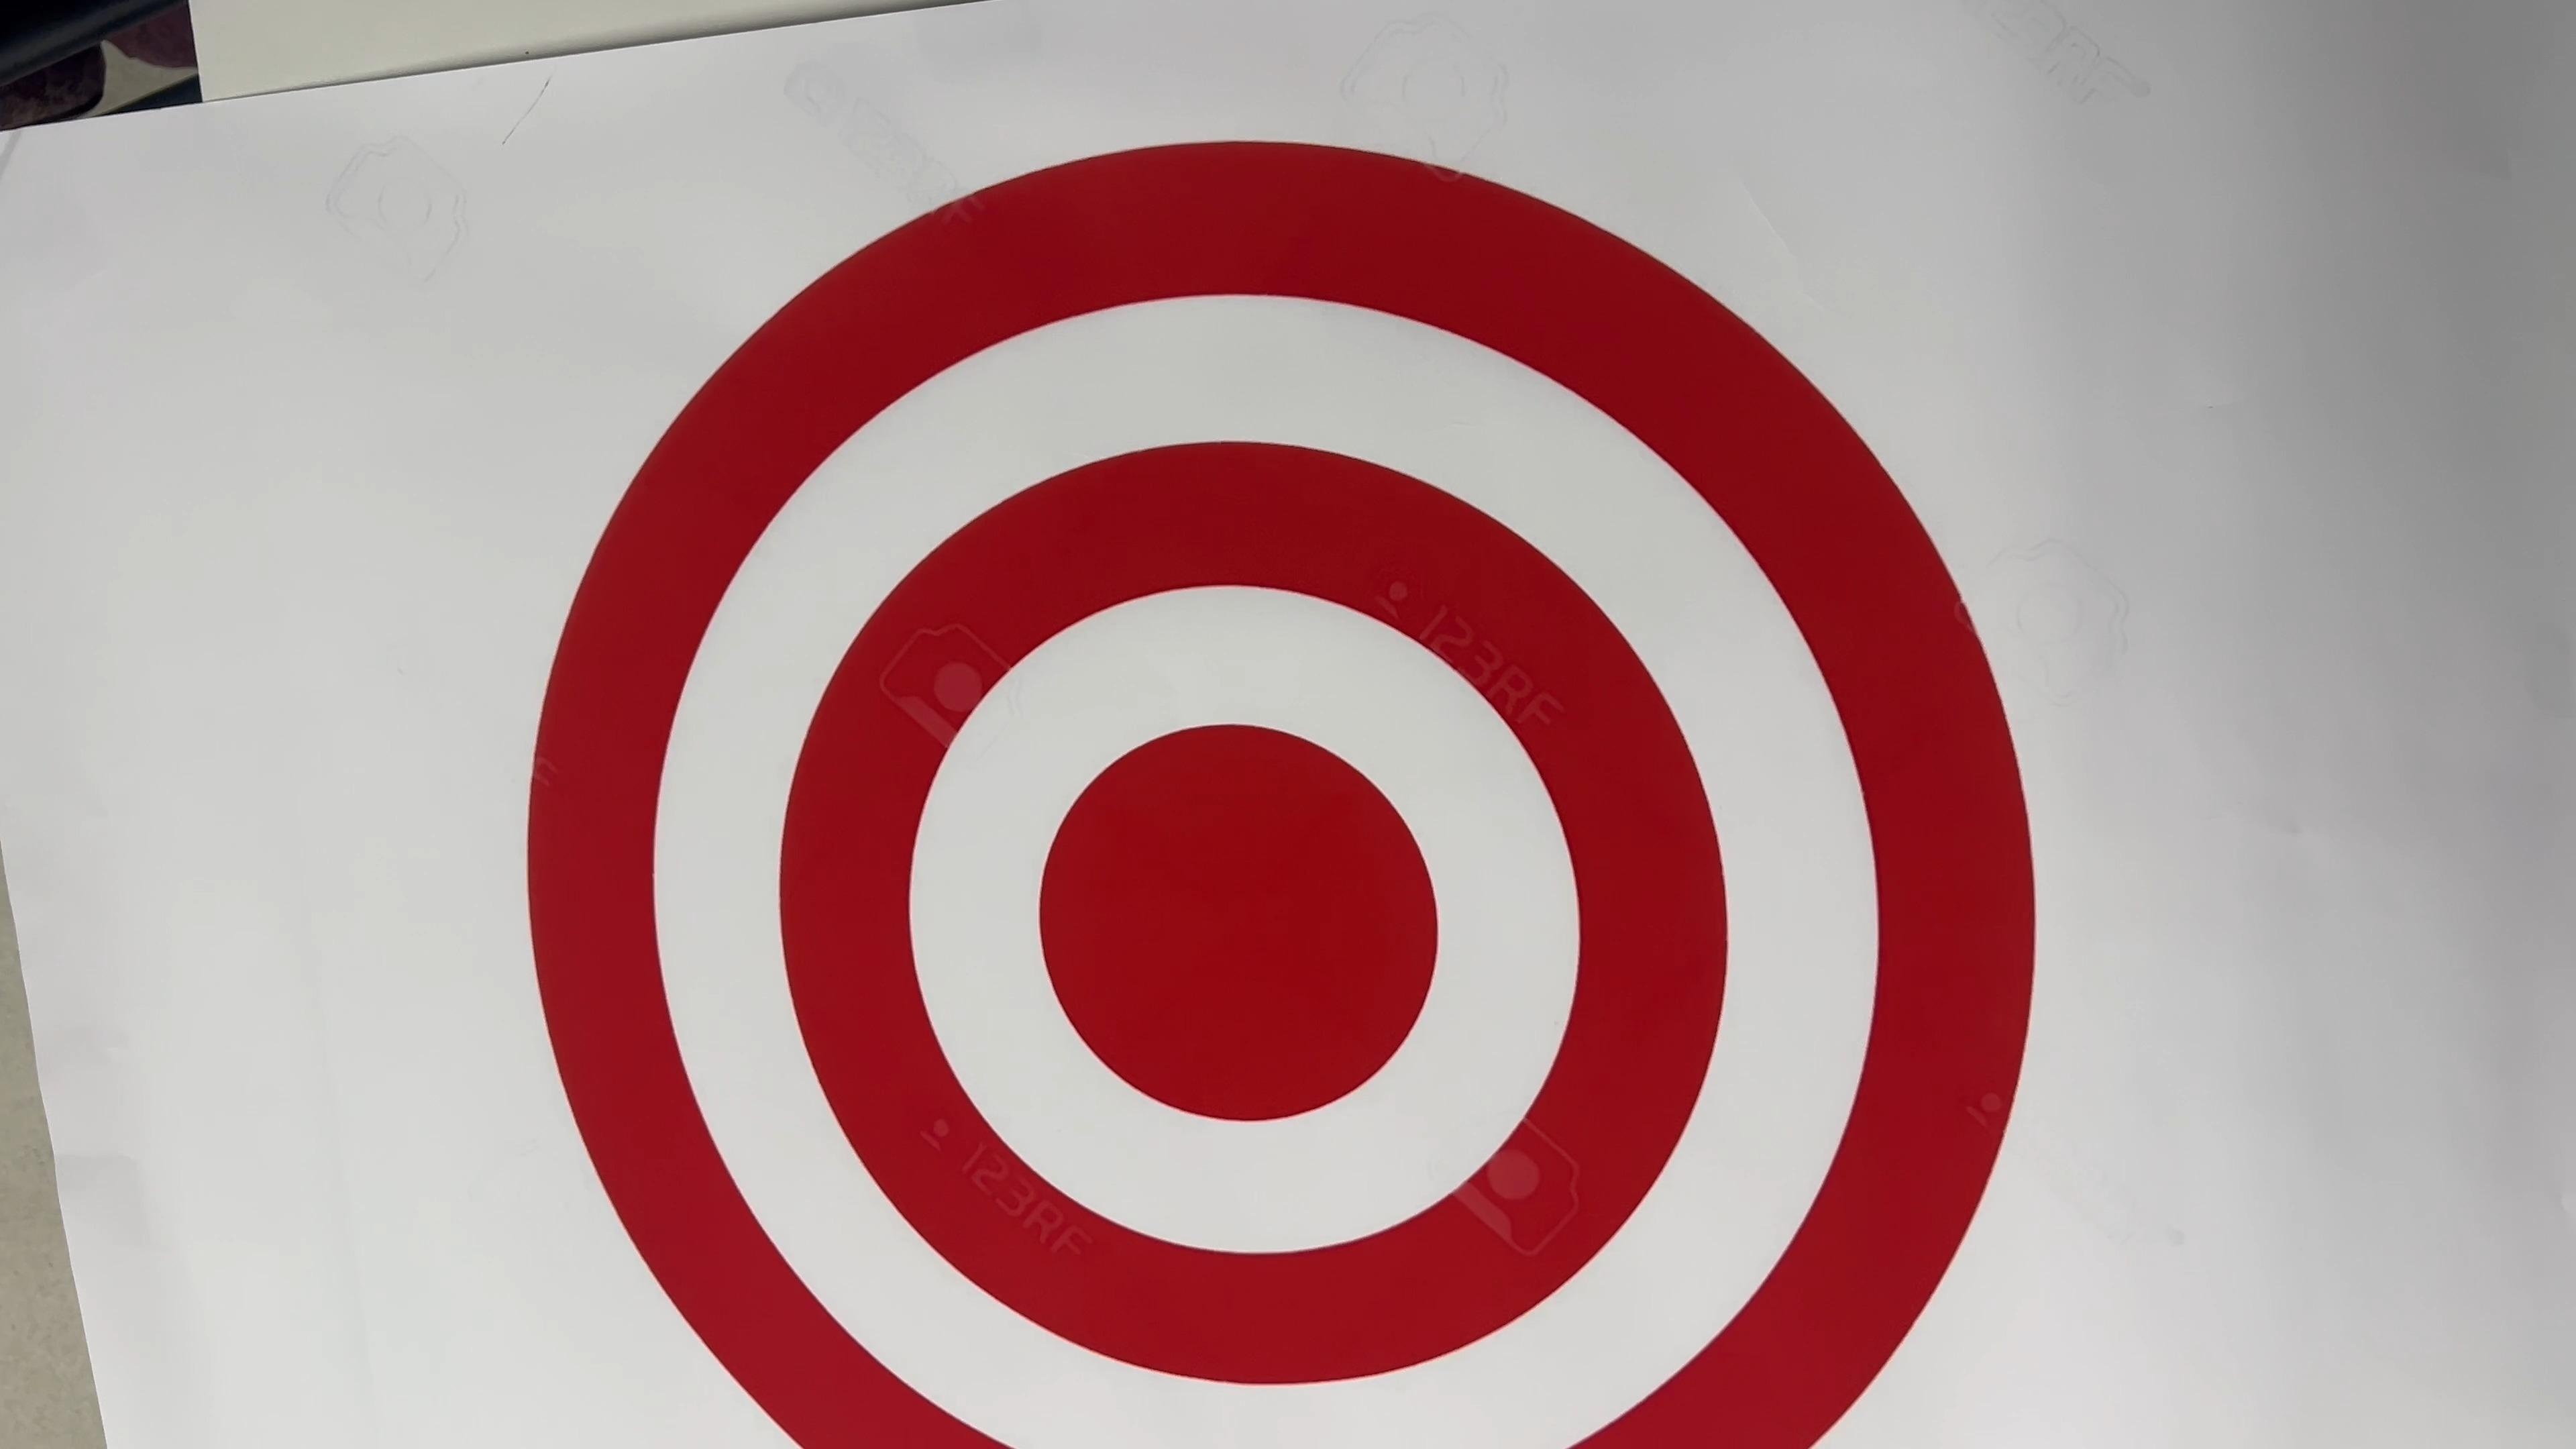target_red: (485, 129, 2084, 1449)
